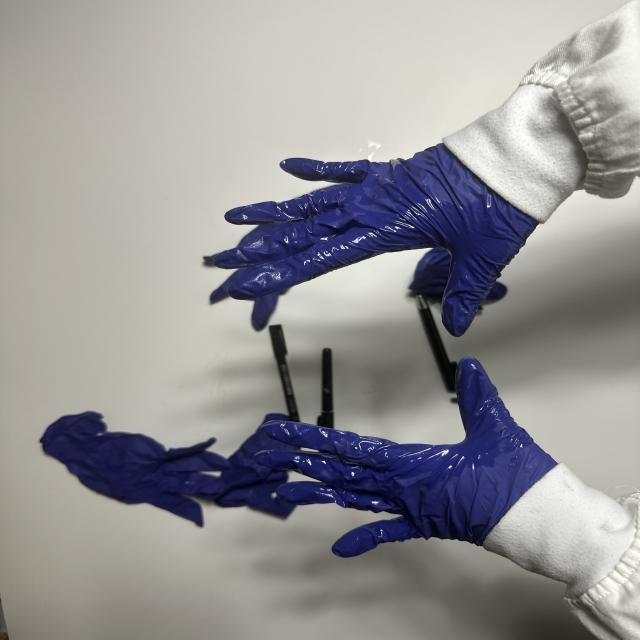gloves_contaminated: (214, 144, 537, 336), (256, 358, 554, 543)
